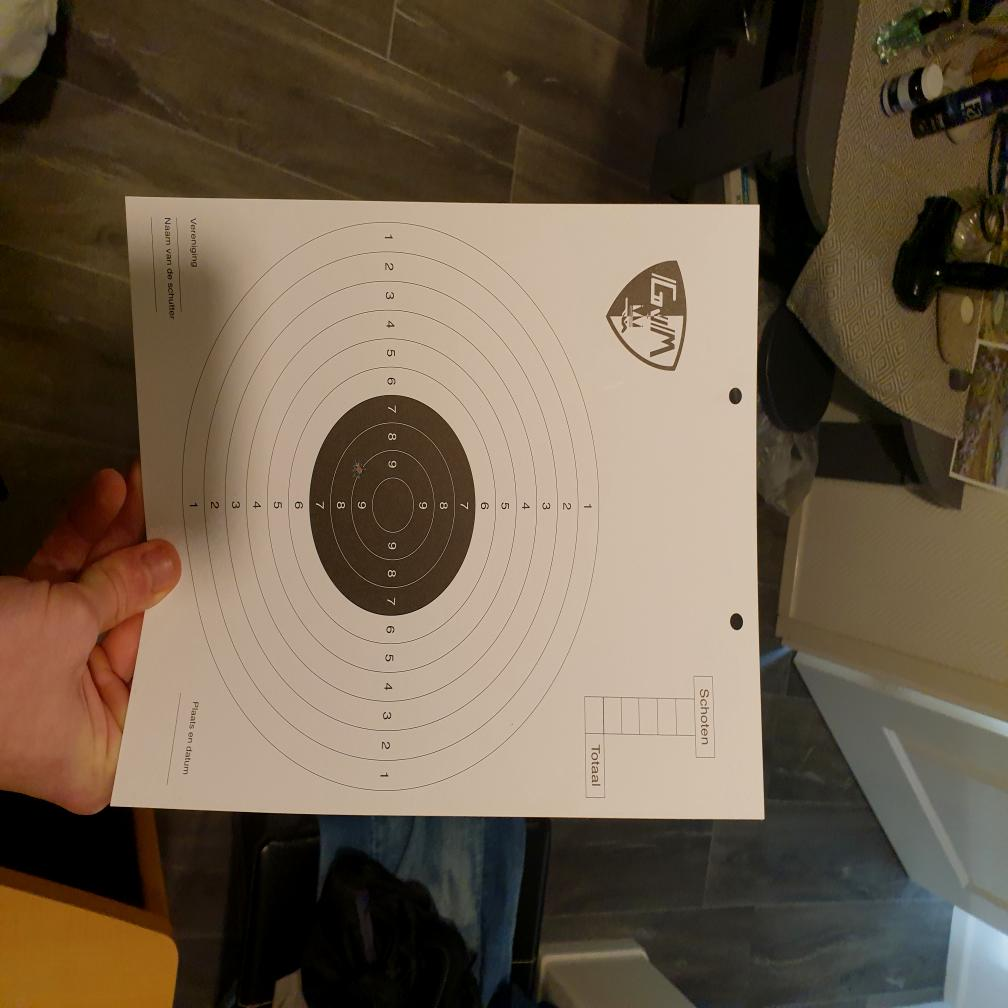9: (353, 460, 366, 479)
Target: (182, 222, 600, 796)
black_contour: (310, 396, 476, 616)
